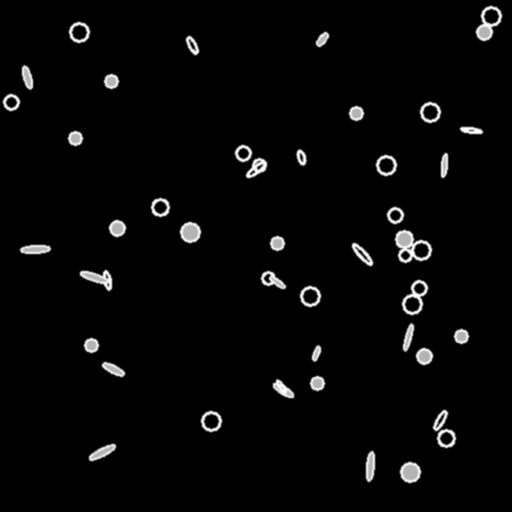pseudomonas: (87, 442, 117, 462), (351, 242, 373, 266), (79, 270, 109, 284), (245, 160, 267, 178), (432, 409, 448, 431), (102, 361, 124, 377), (272, 382, 294, 398), (402, 324, 414, 350), (21, 65, 33, 89), (185, 35, 199, 55), (268, 275, 286, 289), (366, 452, 374, 480), (315, 31, 329, 47), (21, 245, 49, 253), (274, 379, 288, 393), (295, 149, 307, 165), (440, 153, 448, 177), (102, 271, 112, 289), (460, 126, 482, 134), (311, 345, 321, 361)
synechocystis: (421, 103, 439, 121), (301, 287, 319, 305), (403, 295, 421, 313), (202, 412, 220, 430), (482, 7, 500, 25), (70, 23, 88, 41), (401, 463, 419, 481), (181, 223, 199, 241), (412, 241, 430, 259), (377, 156, 395, 174), (396, 231, 412, 247), (438, 430, 454, 446), (152, 199, 168, 215), (412, 281, 426, 295), (236, 146, 250, 160), (388, 208, 402, 222), (4, 95, 18, 109), (417, 349, 431, 363), (477, 25, 491, 39), (110, 221, 124, 235), (399, 249, 411, 261), (311, 377, 323, 389), (105, 75, 117, 87), (253, 159, 265, 171), (271, 237, 283, 249), (85, 339, 97, 351), (455, 330, 467, 342), (350, 107, 362, 119), (262, 272, 274, 284), (69, 132, 81, 144)
